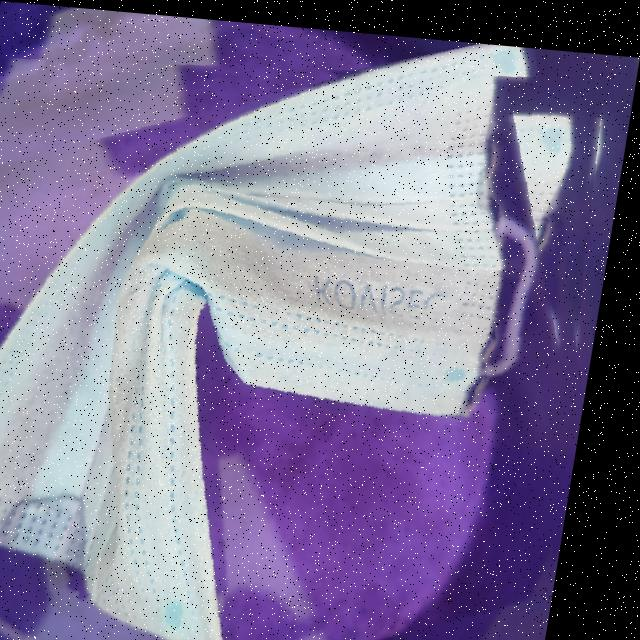litter: (0, 25, 637, 640)
